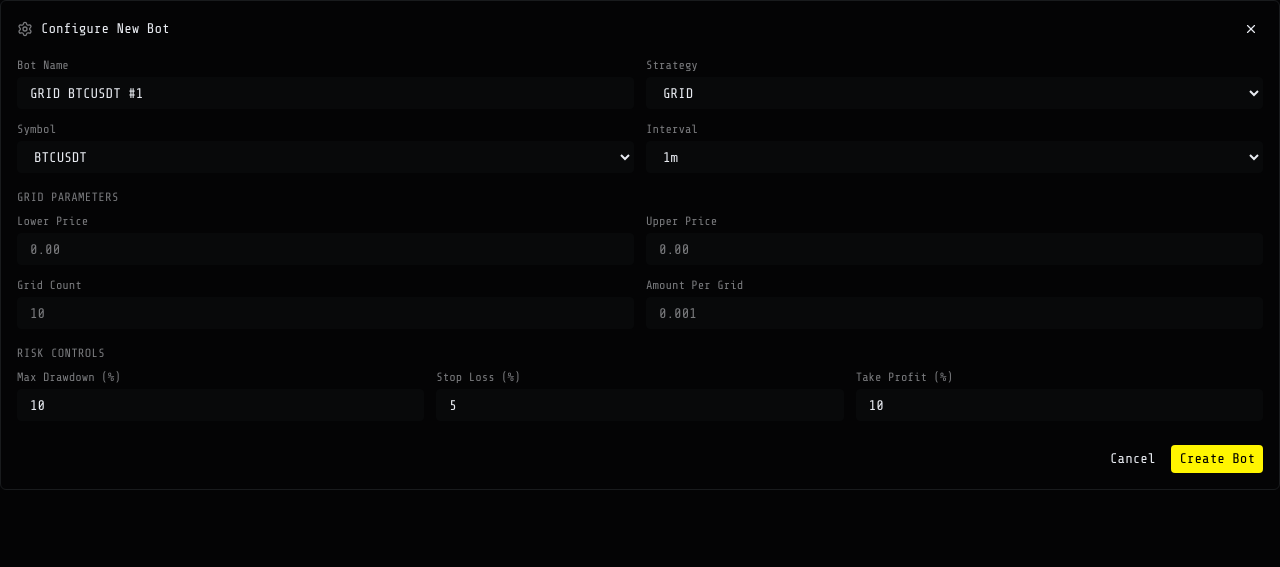
Scenario: BotConfigForm › shows validation errors for empty required fields on submit attempt
# Clear the auto-generated name
Clear the field labelled "Bot Name" at coordinates (326, 93), box [17,77,634,109]
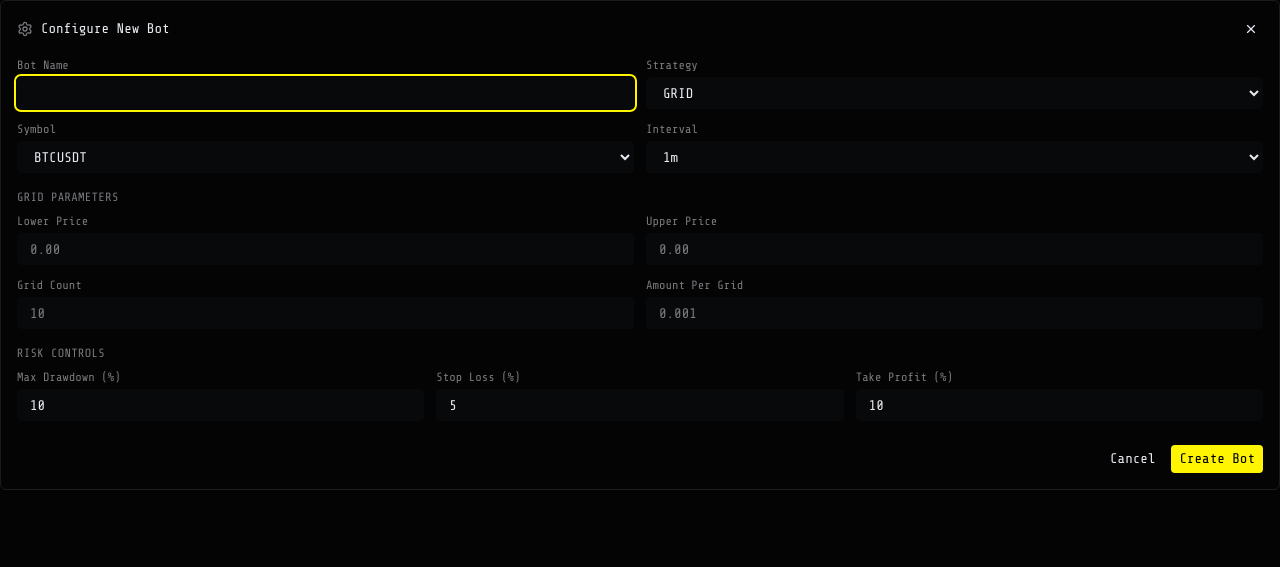
# Submit without filling strategy params
Click the button "Create Bot".
click(1217, 459)  # box [1171,445,1263,473]
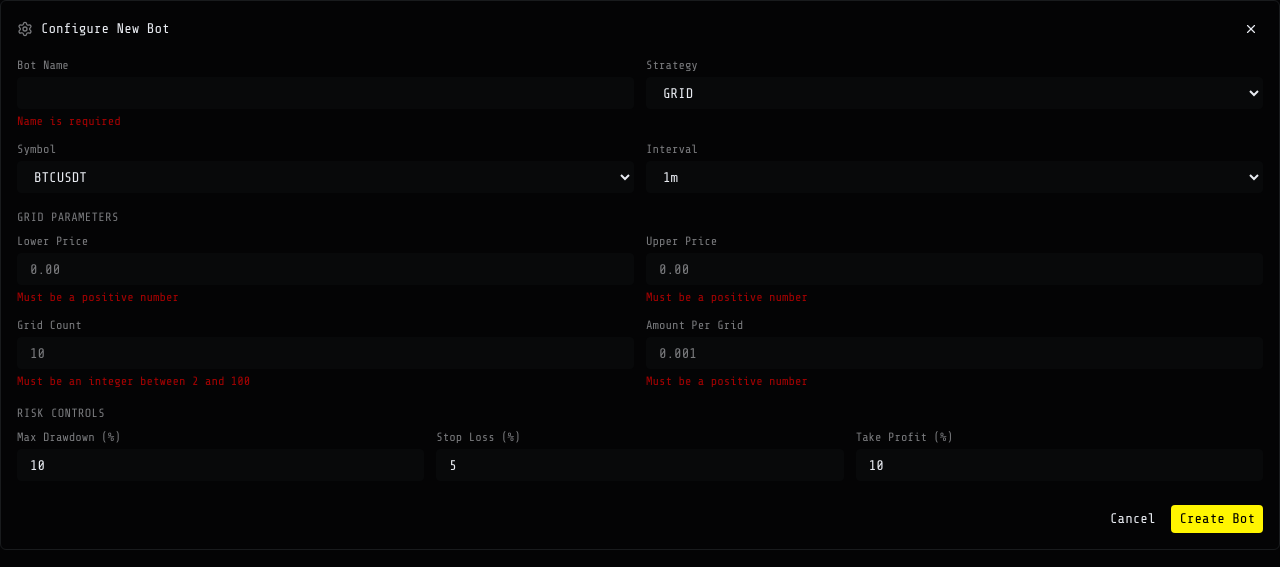
Check: the message "Name is required" is shown, box [17,114,121,128]
